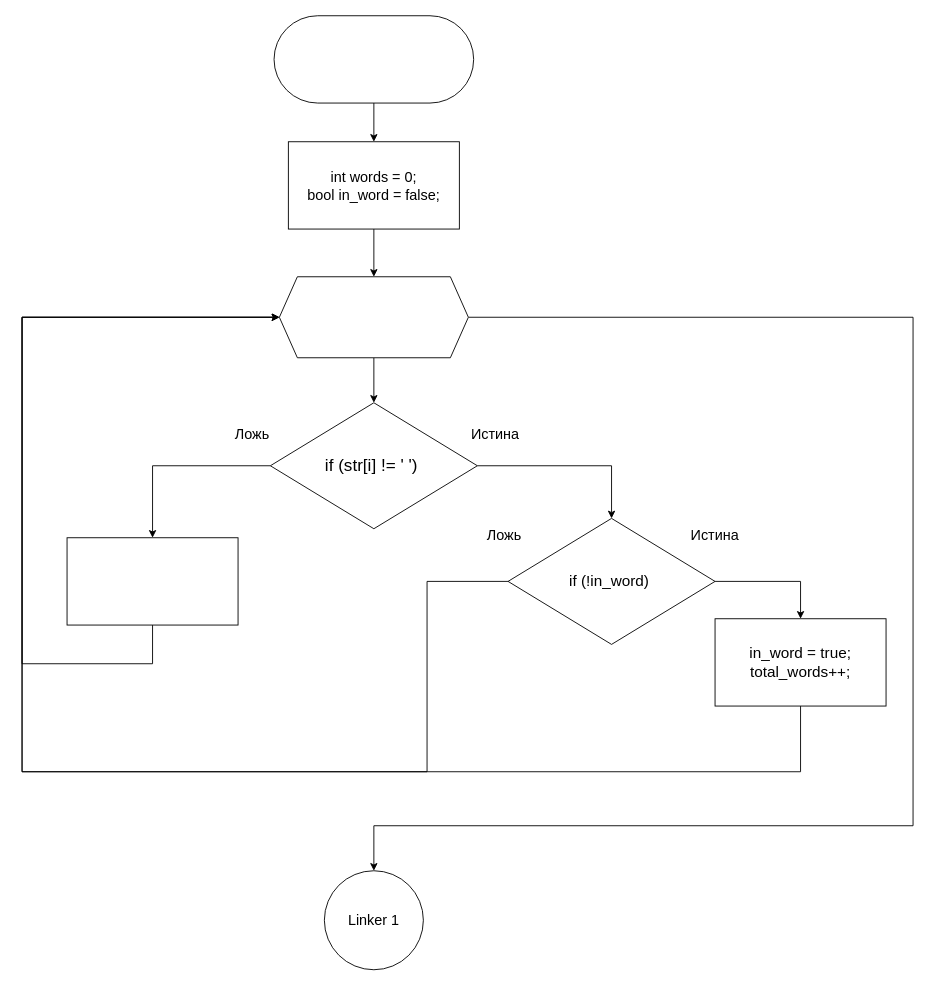
Image size: 936x986. Some labels were removed from this diagram. Here are the shapes that lost their labels. From the top down, the centre of each, then its label:
point (373, 59): int count_words(const std::string& sentence)
point (373, 317): for (unsigned long i = 0; str[i] != '\0'; ++i)
point (152, 581): in_word = false;
